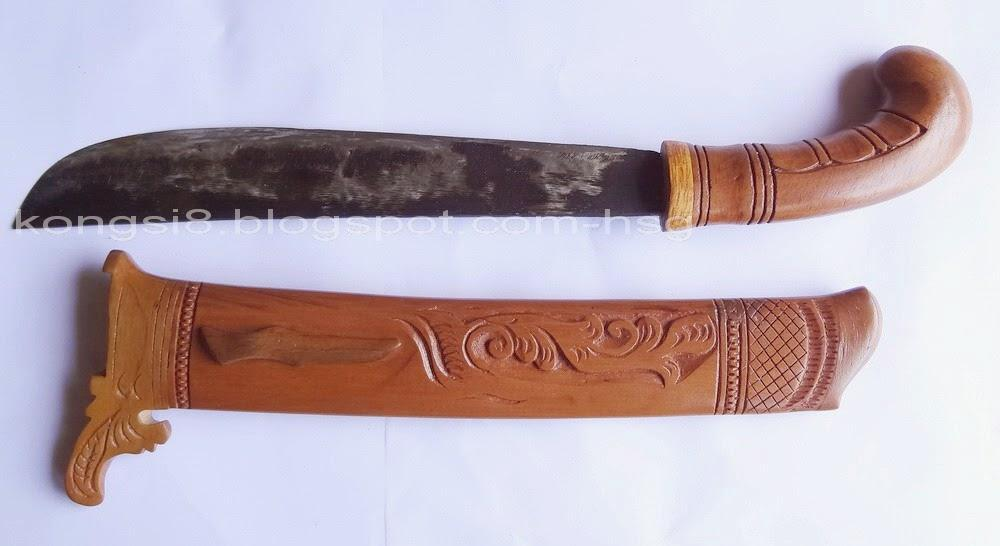espada: (13, 45, 970, 237)
